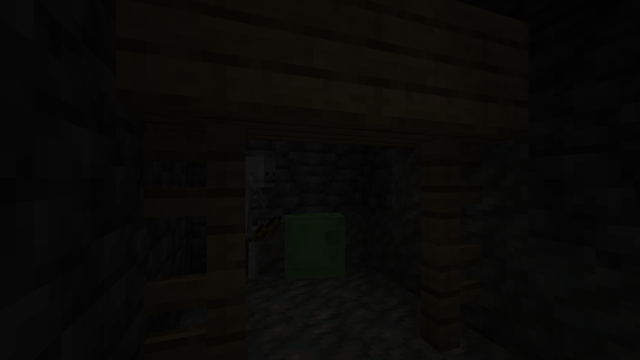slimes: (285, 208, 350, 281)
squelettes: (247, 156, 278, 281)
